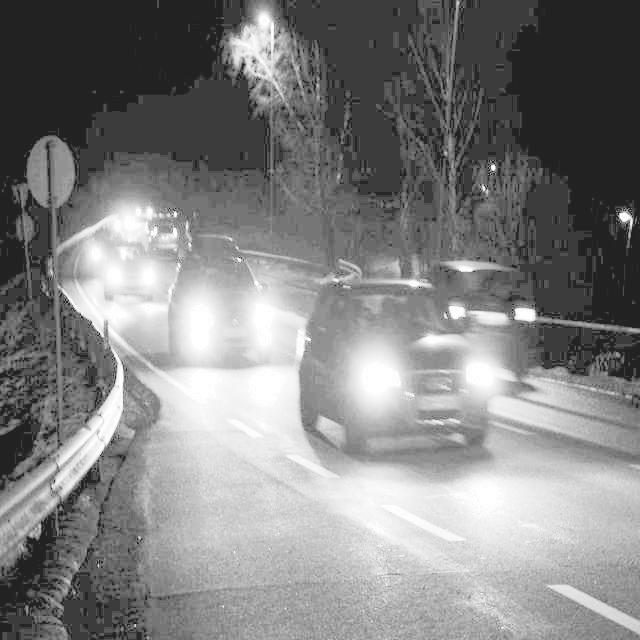Car: (299, 264, 497, 460), (162, 234, 301, 399), (451, 239, 550, 389), (107, 232, 201, 329), (150, 196, 191, 284)
